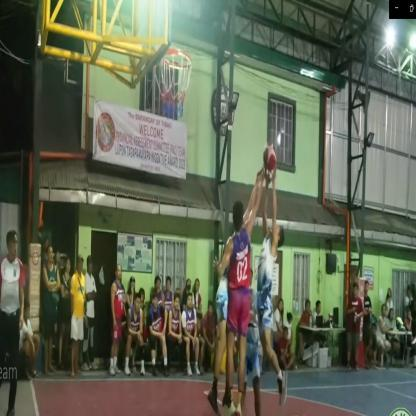basketball: (263, 147, 277, 174)
rim: (153, 37, 197, 130)
